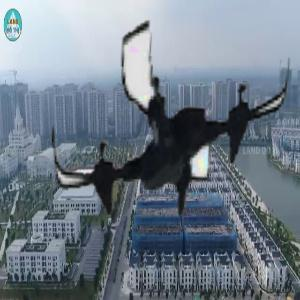drone: (51, 11, 288, 248)
